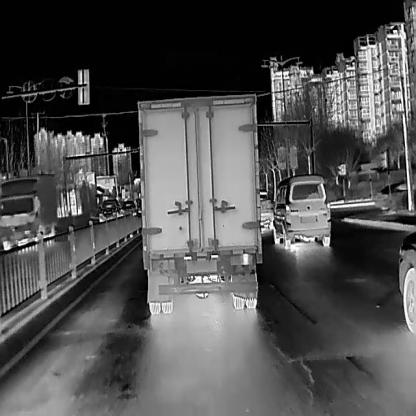car: (272, 173, 331, 248), (374, 180, 416, 210), (258, 187, 274, 228), (97, 197, 123, 222), (121, 199, 136, 215)
truck: (135, 91, 263, 314), (0, 170, 57, 250)
